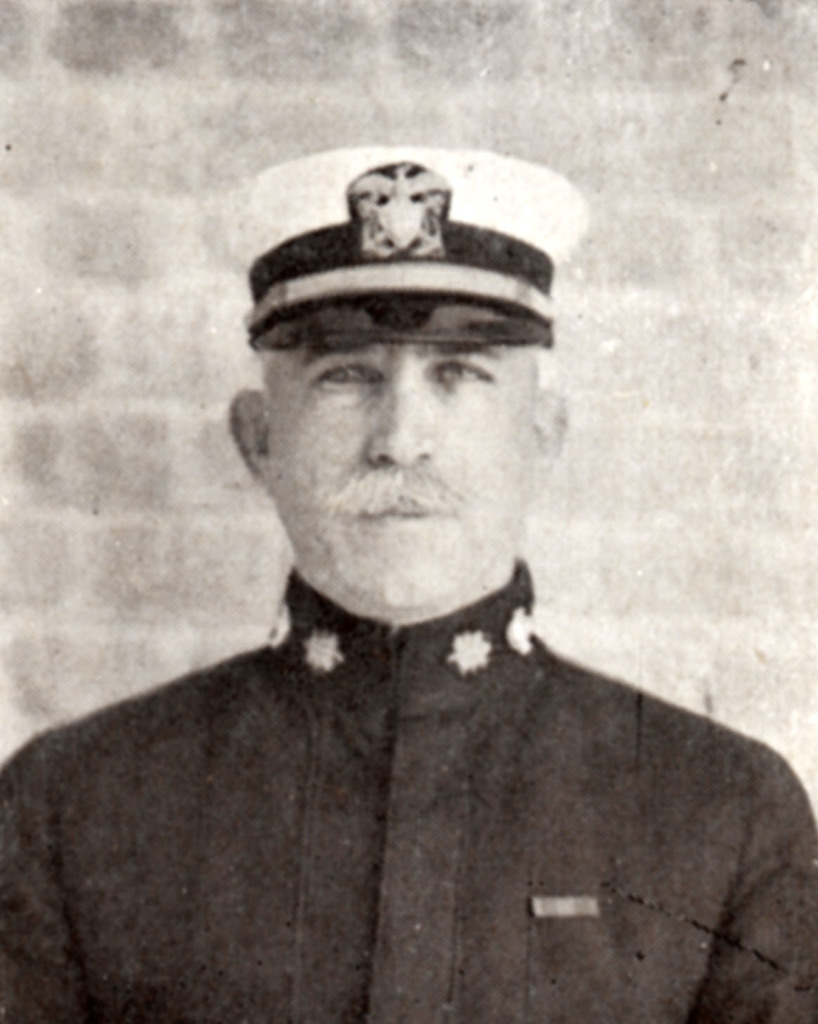face: (281, 208, 526, 621)
